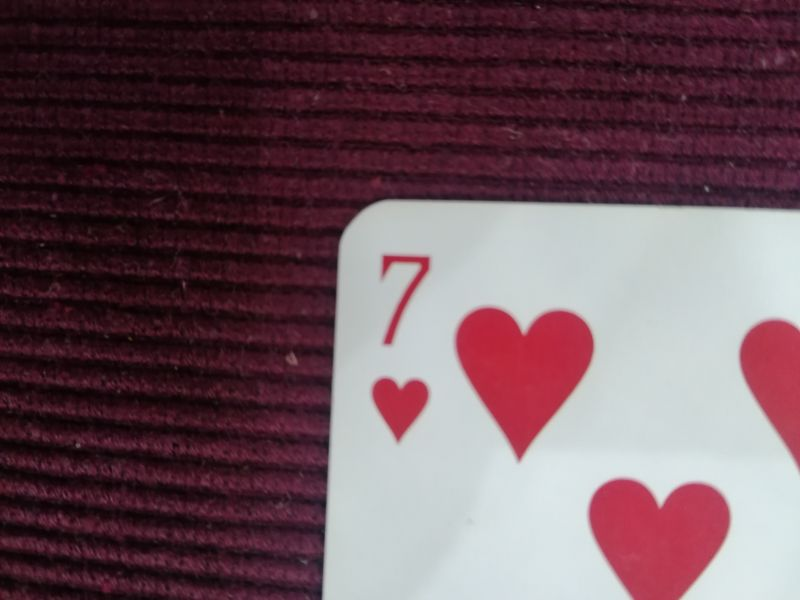7h: (371, 247, 436, 448)
